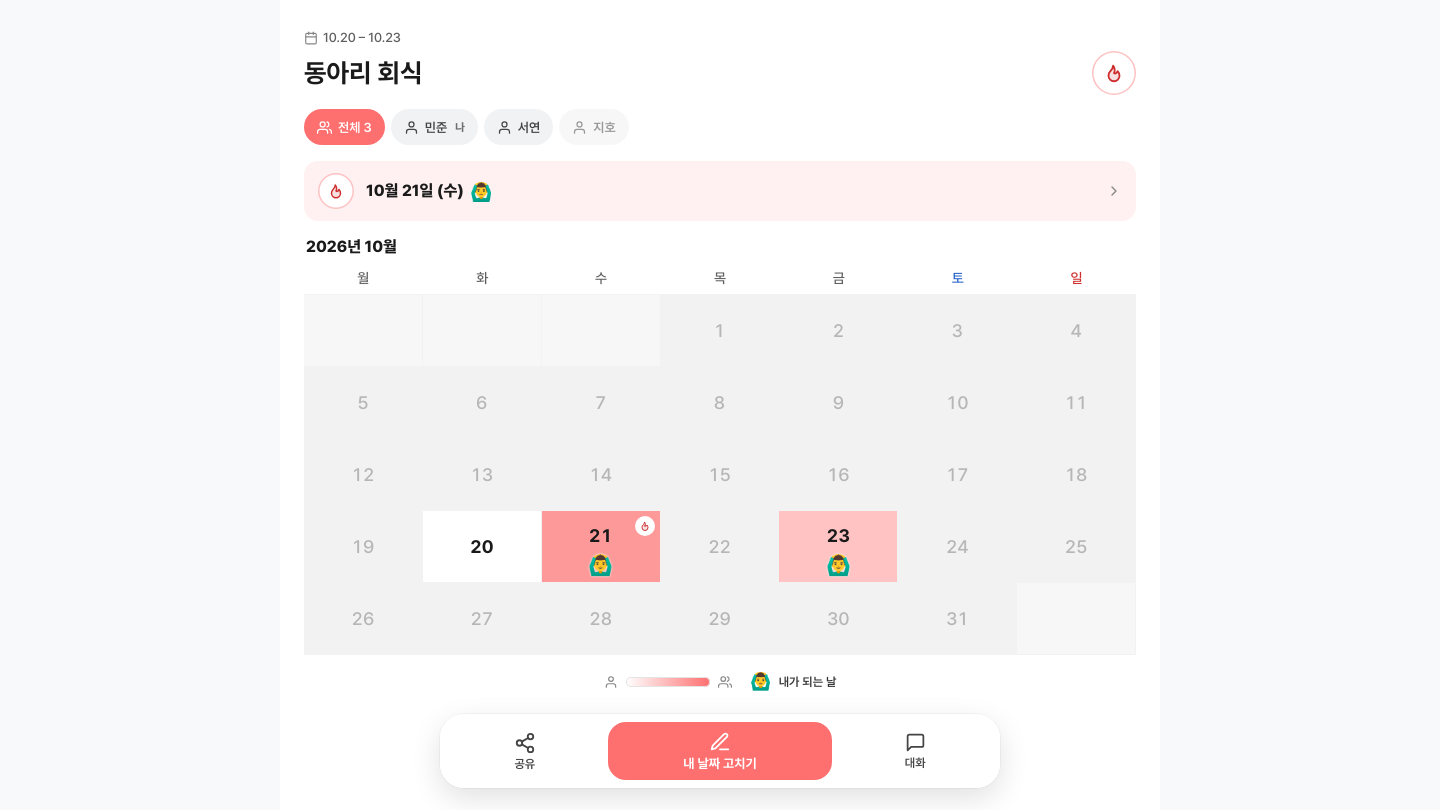
Test case: 날짜 표 문구(2026-10-10) › 로그아웃하면 참여 창 제목은 처음 참여와 같은 '참여하기'
Expected: the heading "동아리 회식" is shown, [304,58,422,88]
Click the button with aria-label "내 날짜 고치기, 지금 2일". click: (720, 751)
box: [608,722,832,780]
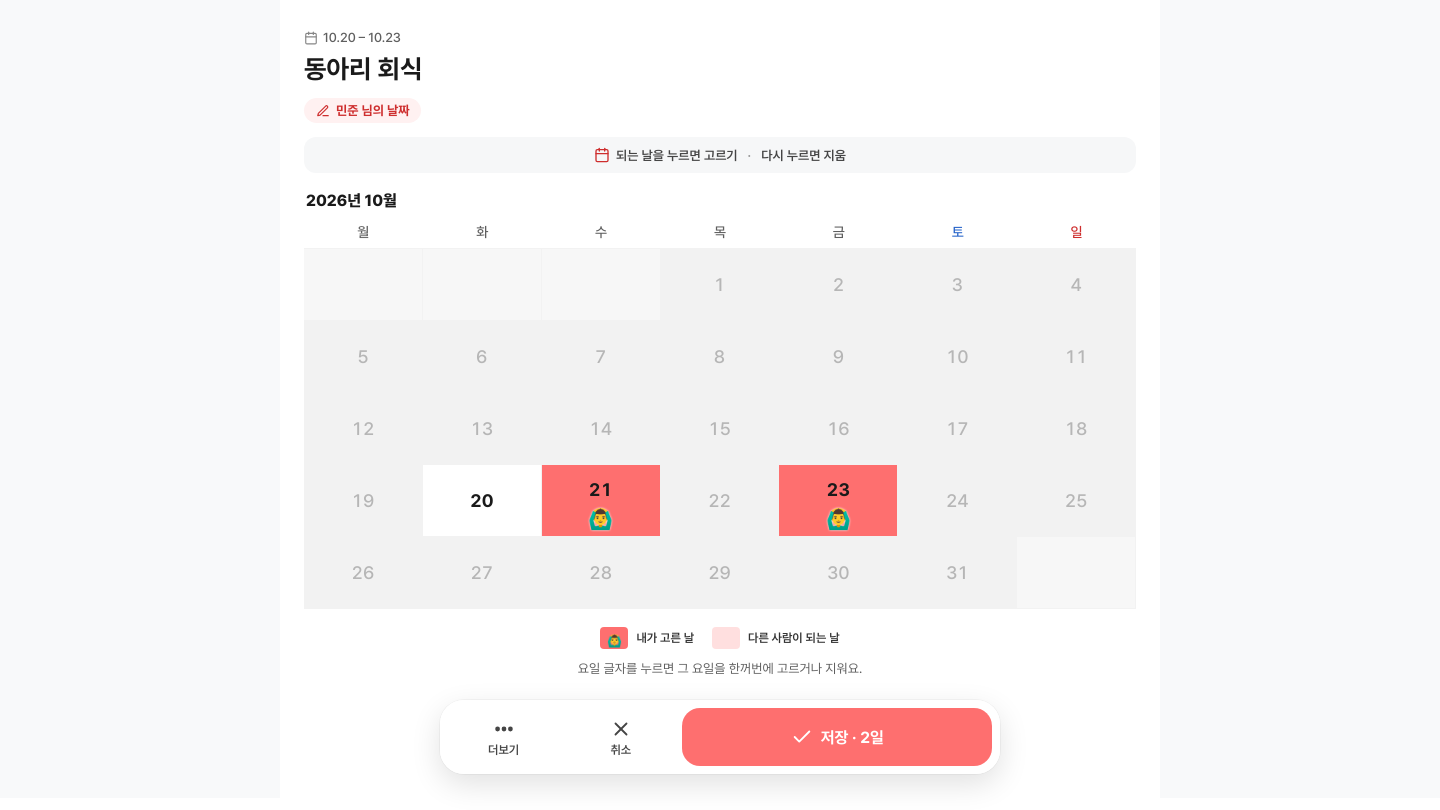
Click the button with aria-label "더보기: 로그아웃, 참여 취소". click: (504, 737)
box: [448,708,559,766]
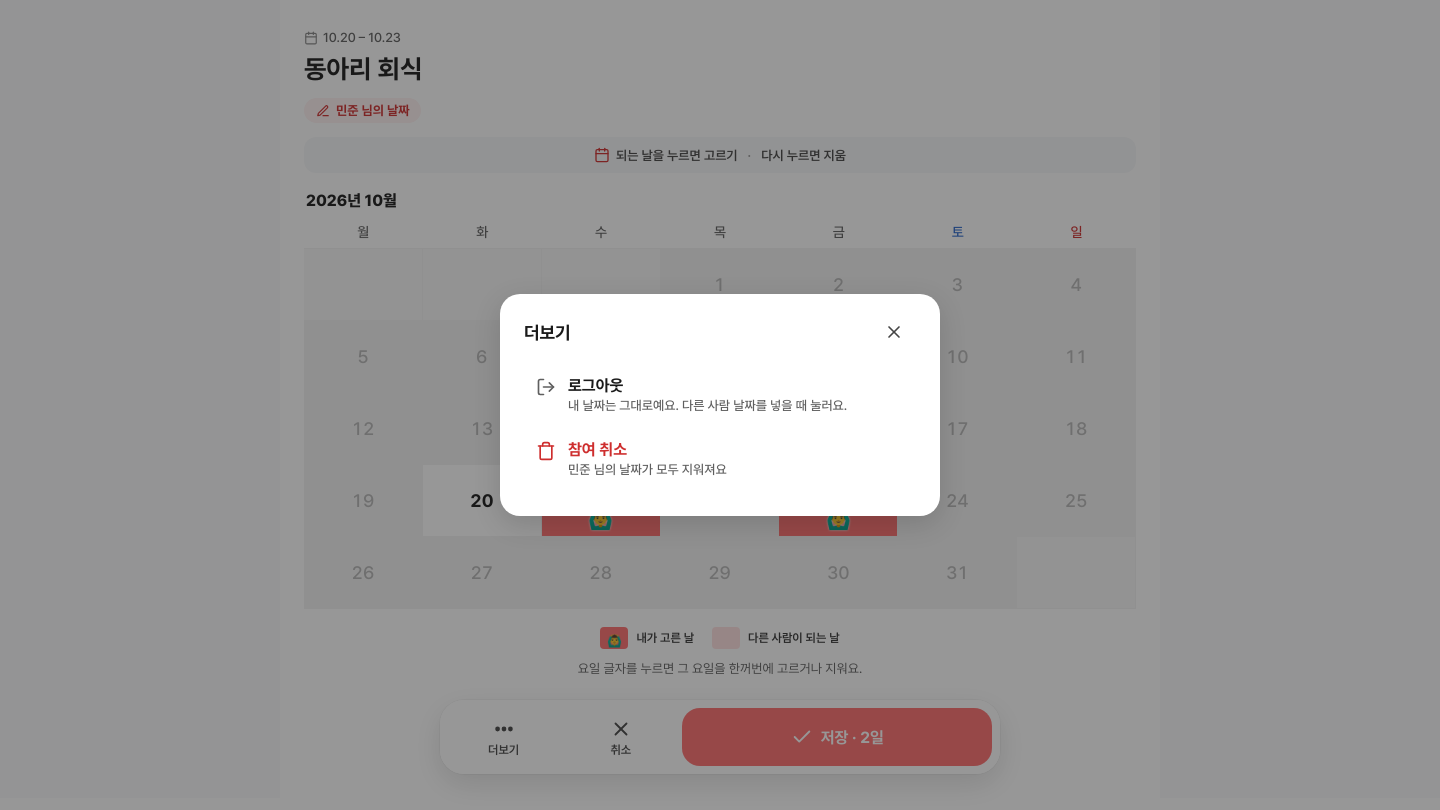
Click the button "로그아웃 내 날짜는 그대로예요. 다른 사람 날짜를 넣을 때 눌러요.". click: (720, 397)
box: [524,366,916,428]
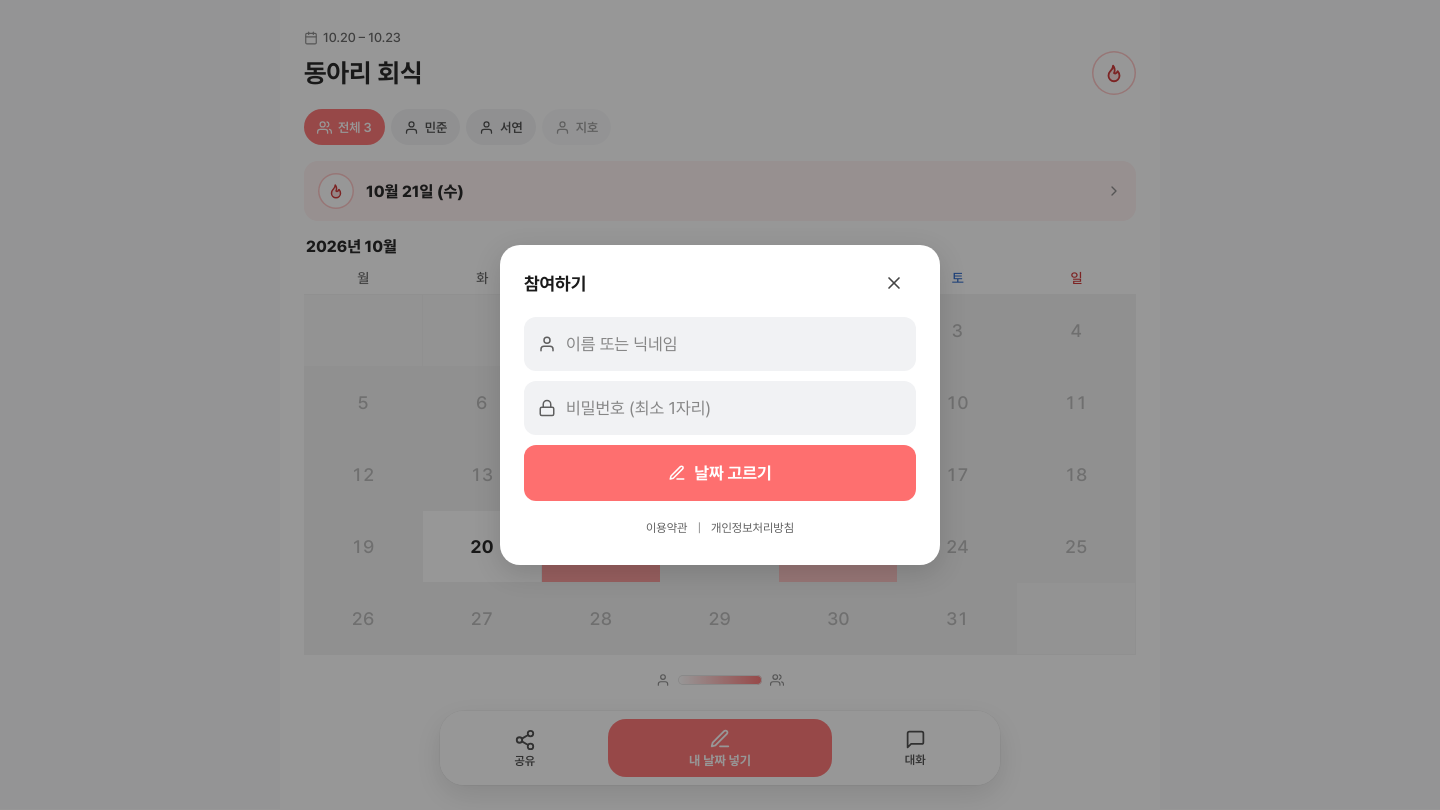
Result: the dialog "참여하기" is shown at [500,245,940,565]
